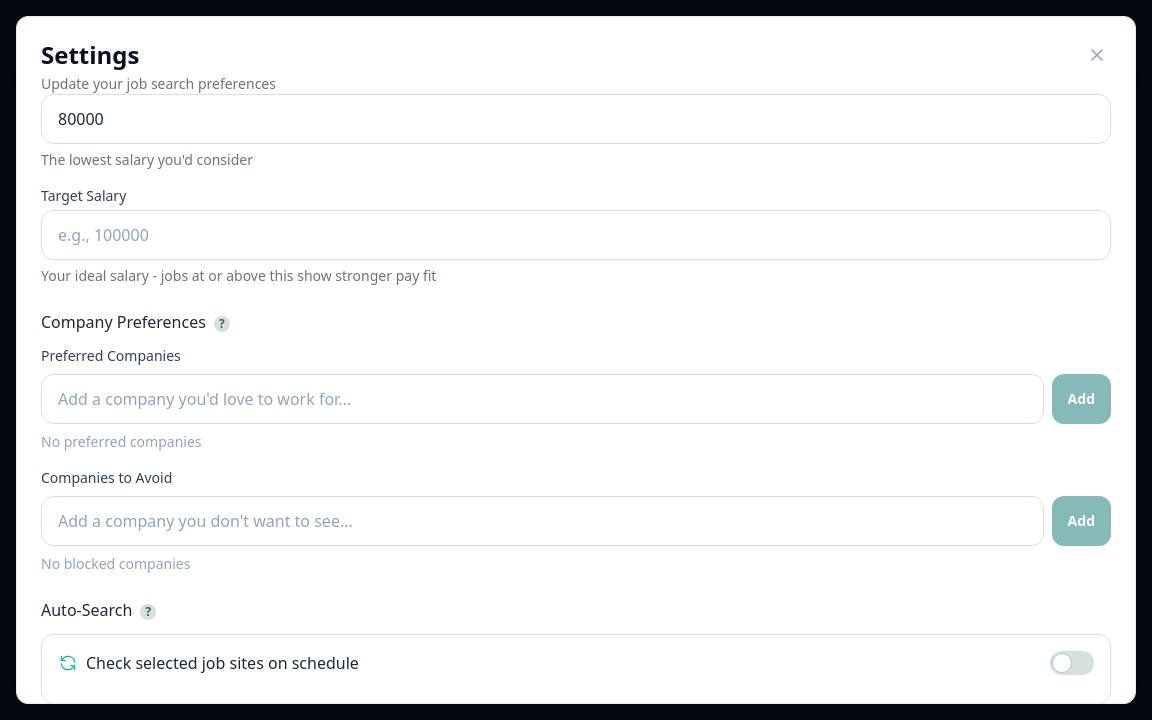
Settings toast-triggered form state › adds company preferences when a saved config has no company arrays
(page scrolled)
Check: the element "Company Preferences" is shown, box left=41, top=310, right=1111, bottom=574
In the field with placeholder "Add a company you'd love to work for...": [542, 399] box left=41, top=374, right=1044, bottom=424, type "Verification Preferred Co"
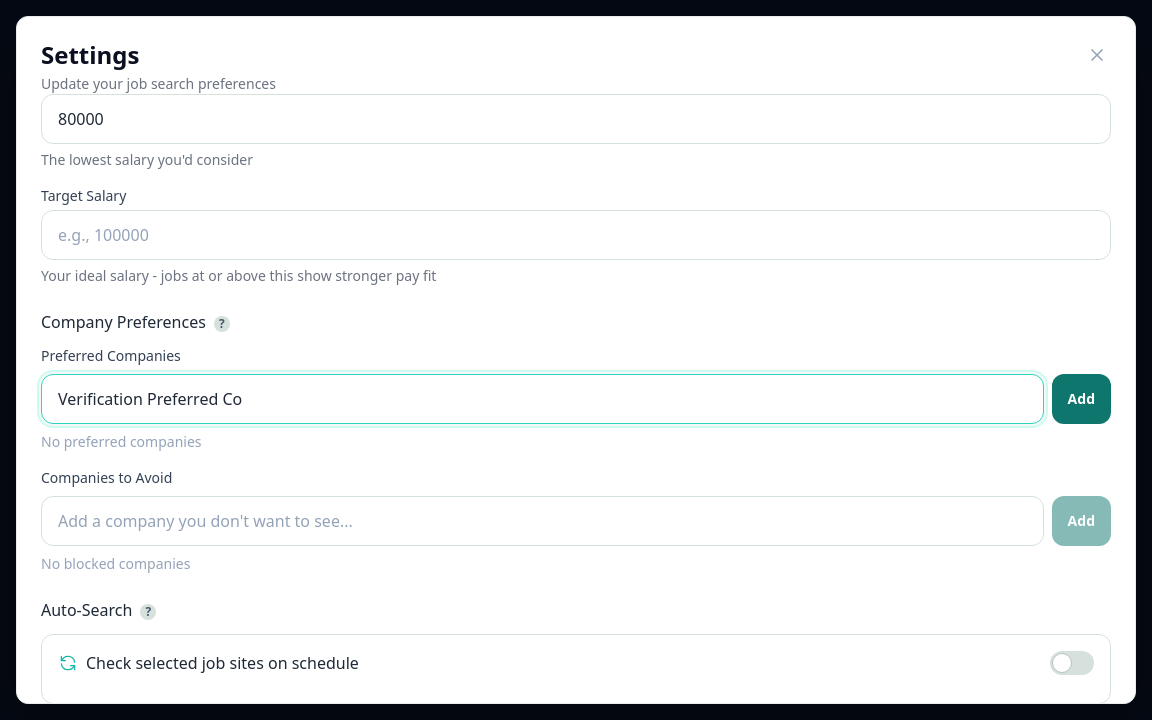
Click the 1st button "Add": [1081, 399] box left=1052, top=374, right=1111, bottom=424
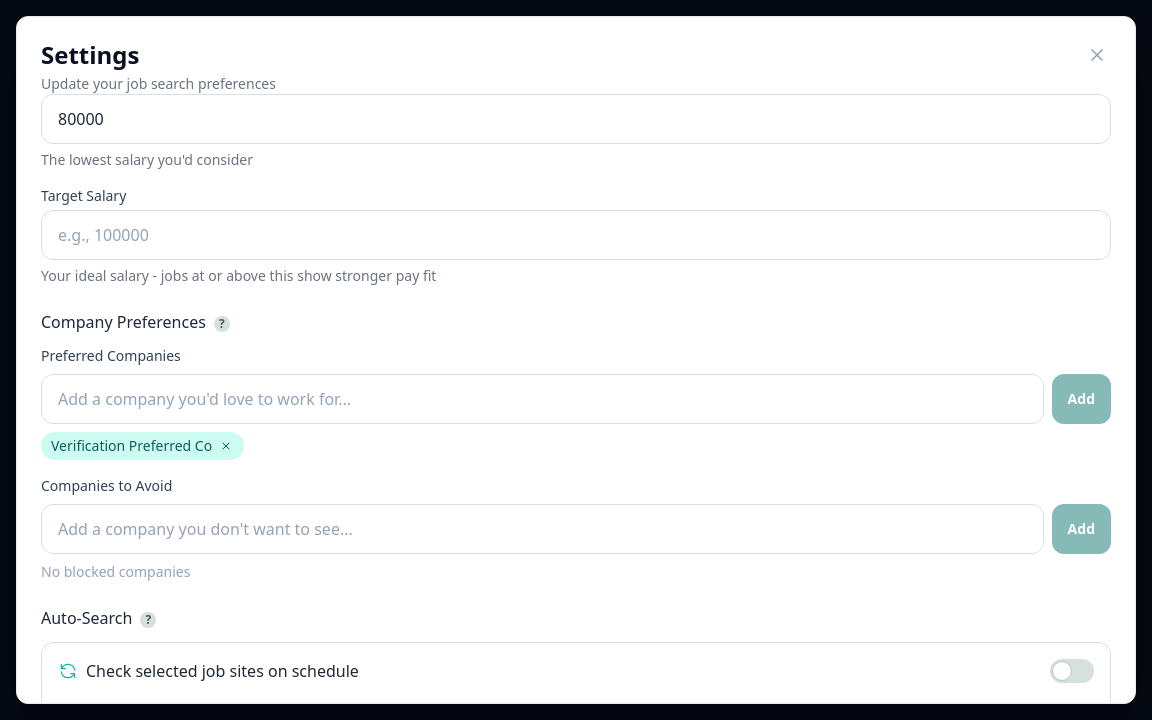
Check: the button named "Remove Verification Preferred Co" is shown, box left=218, top=438, right=234, bottom=454
In the field with placeholder "Add a company you don't want to see...": [542, 529] box left=41, top=504, right=1044, bottom=554, type "Verification Avoid Co"
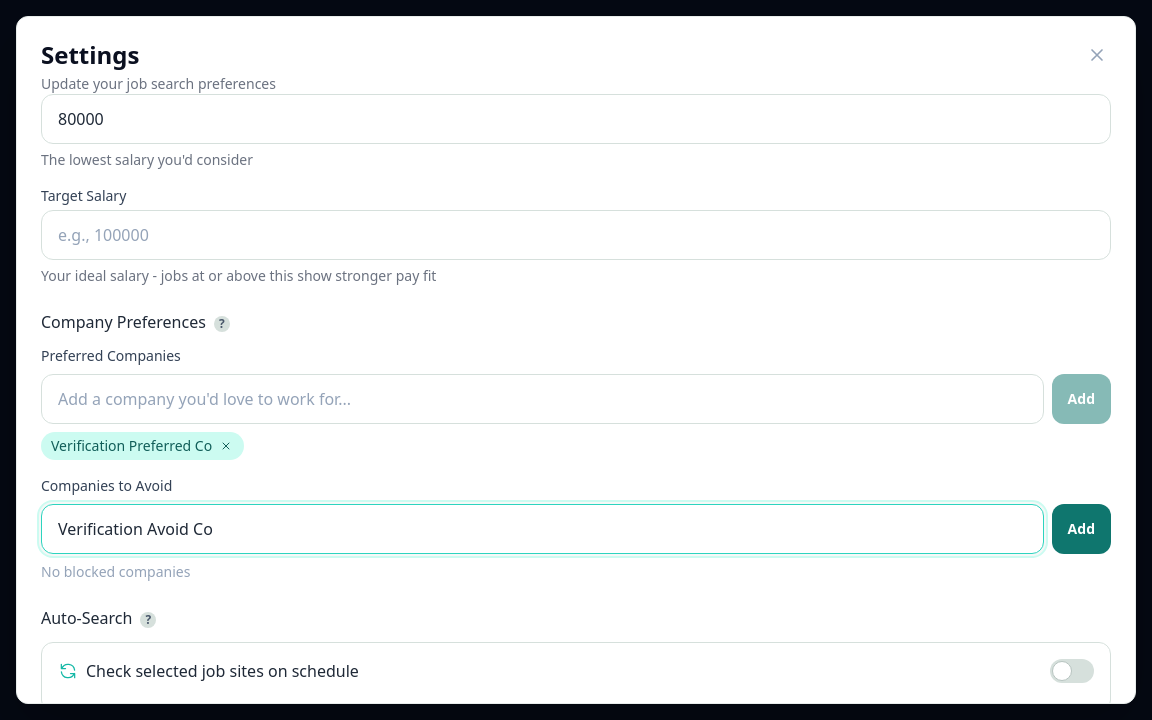
Click the 2nd button "Add": [1081, 529] box left=1052, top=504, right=1111, bottom=554
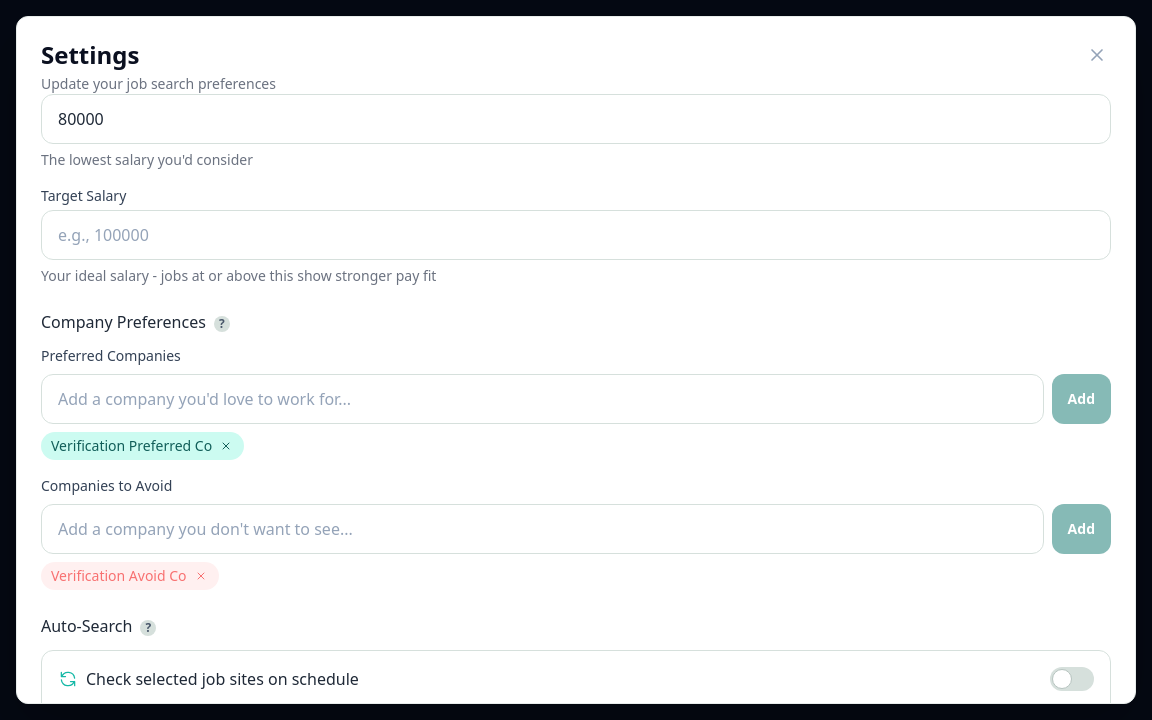
Check: the button named "Remove Verification Avoid Co" is shown, box left=193, top=568, right=209, bottom=584
